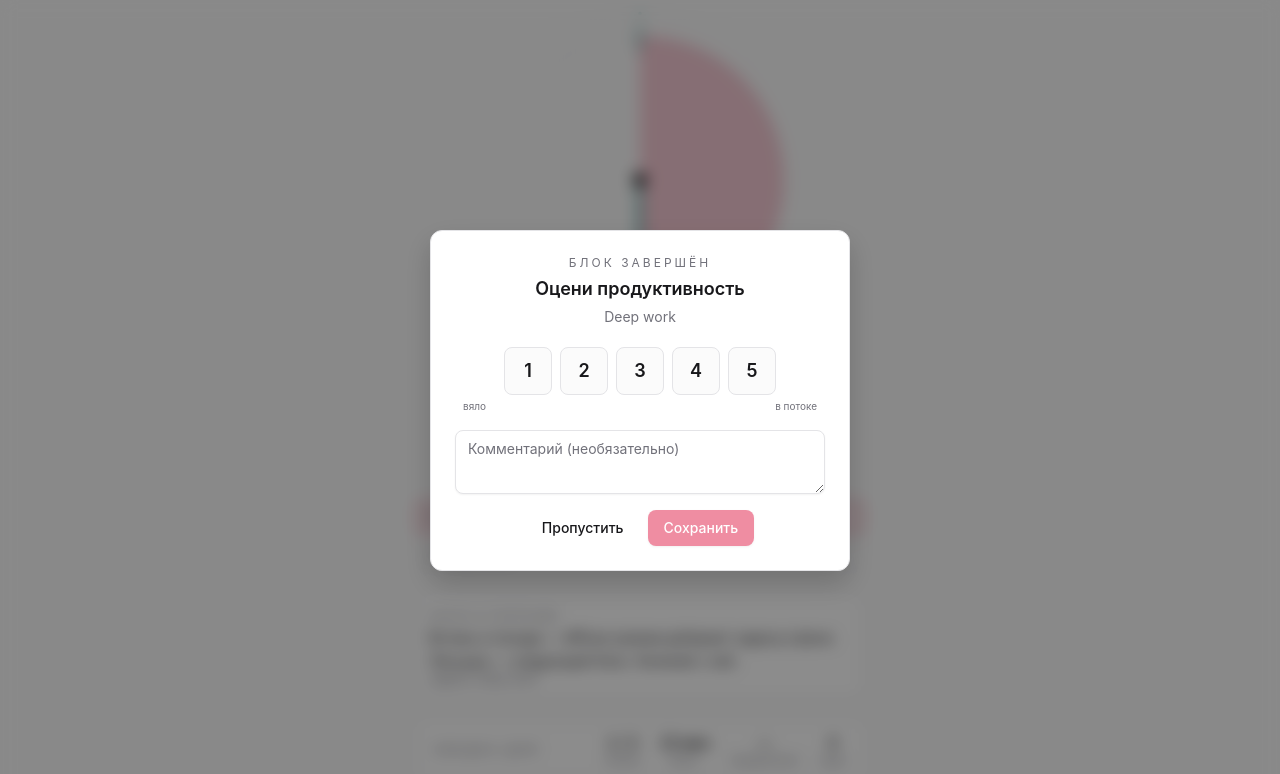
review flow on /focus › submit posts /api/reviews and closes the modal
Expected: the dialog with test id "review.modal" is shown, x1=430 y1=230 x2=850 y2=570
What coordinates should you click on to do the following:
click the radio button with test id "review.scale-4"
I would click on:
 (696, 370)
Its box is x1=672 y1=346 x2=720 y2=394.
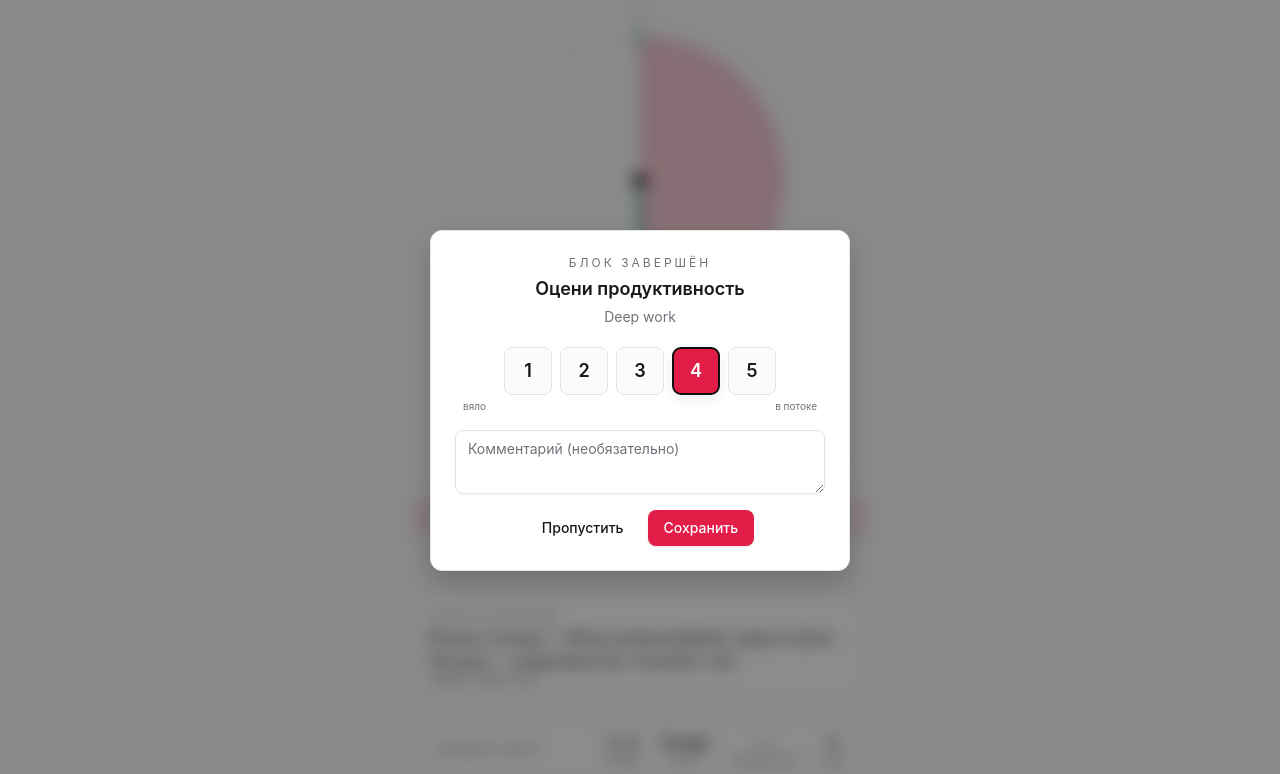
What coordinates should you click on to do the following:
click the button with test id "review.submit"
I would click on:
 (701, 528)
Its box is x1=648 y1=510 x2=754 y2=546.
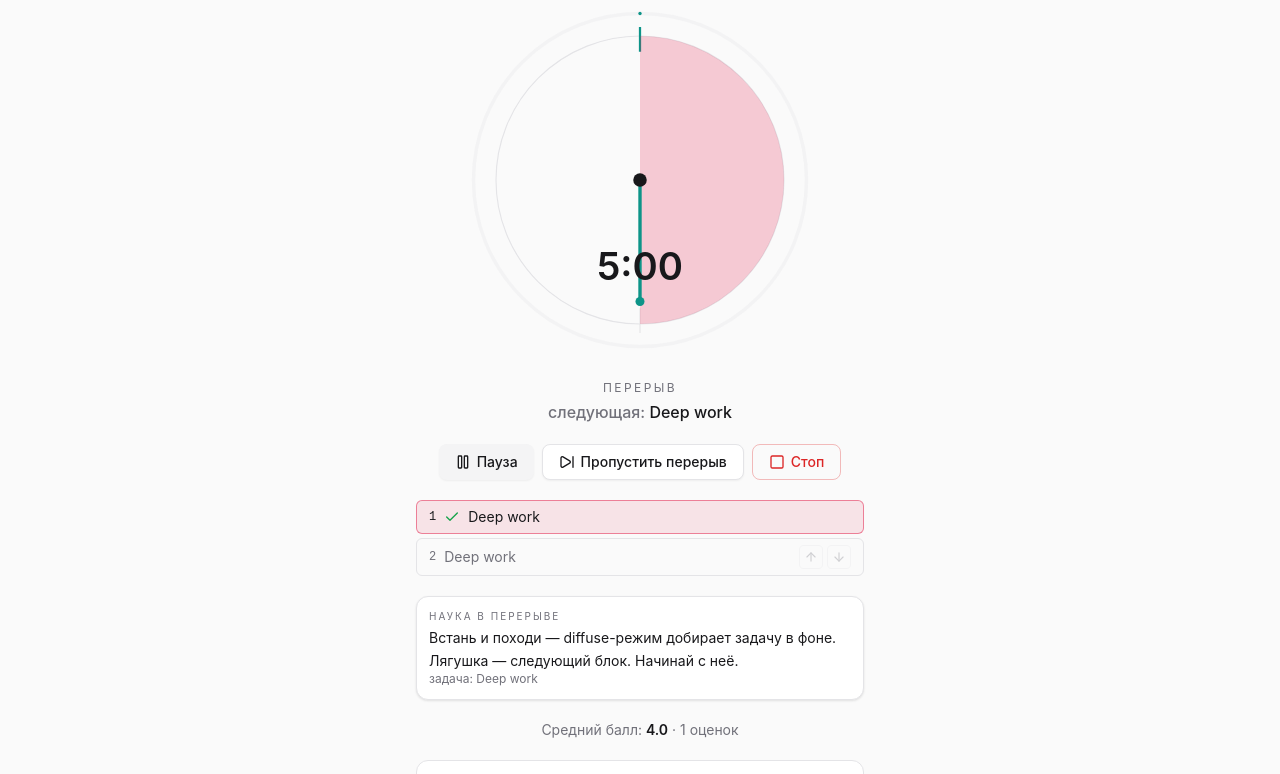
Expected: the element with test id "dial.score-badge" shows "4", x1=646 y1=720 x2=668 y2=738
